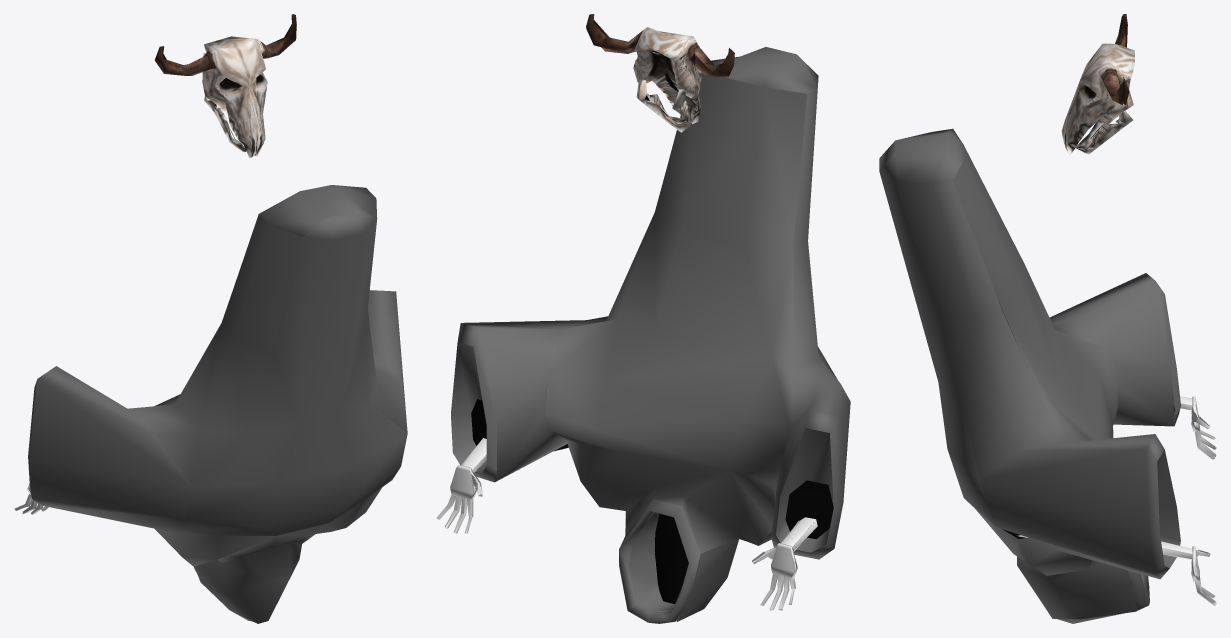
File: FinalGreyGhost.fbx
The picture shows the model from 3 angles, left to right: view 1: azimuth 30°, elevation 25°; view 2: azimuth 150°, elevation 25°; view 3: azimuth 270°, elevation 25°; orthographic projection. The views are drawn at different scales.
Parts seen in each view (by area): view 1: polySurface26_lambert2_0.001, Skull; view 2: polySurface26_lambert2_0.001, Skull, Jaw; view 3: polySurface26_lambert2_0.001, Skull, Jaw.
Part boxes in pixels (x1,y1,x2,y2): polySurface26_lambert2_0.001: (14,185,407,623); Skull: (154,14,296,157); polySurface26_lambert2_0.001: (436,47,850,623); Skull: (586,14,734,124); Jaw: (636,80,692,132); polySurface26_lambert2_0.001: (879,128,1216,623); Skull: (1061,14,1134,155); Jaw: (1076,89,1133,154).
Size of the model in its own units: 10519 by 15472 by 8208.
